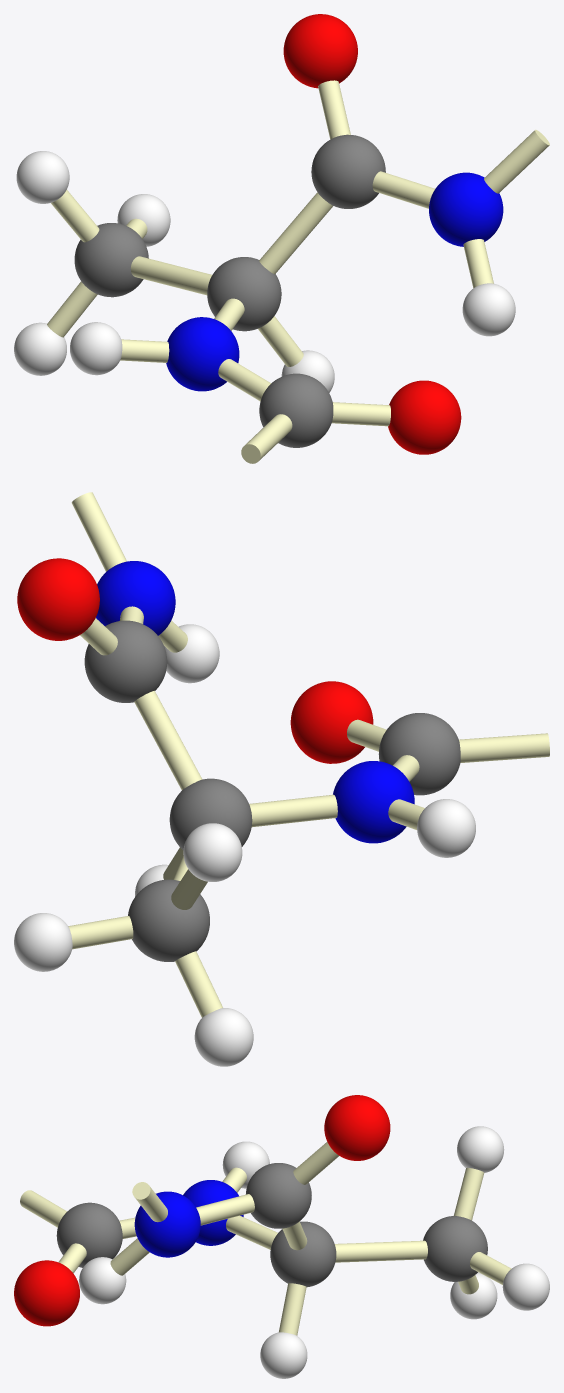
Rendered from conformation.gltf.
3 views of the same model, one above another, from view 1: azimuth 30°, elevation 25°; view 2: azimuth 150°, elevation 25°; view 3: azimuth 270°, elevation 25° (orthographic). The views are drawn at different scales.
Parts seen in each view (by area): view 1: ?????????2, ?????????6, ?????????13, ?????????5, ?????????3, ?????????9, ?????????1, ?????????4, ?????????12, ?????????14, ?????????7, ?????????10 (+16 smaller); view 2: ?????????6, ?????????2, ?????????5, ?????????3, ?????????9, ?????????1, ?????????13, ?????????4, ?????????12, ?????????7, ?????????11, ?????????10 (+11 smaller); view 3: ?????????2, ?????????6, ?????????5, ?????????9, ?????????13, ?????????4, ?????????1, ?????????11, ?????????22, ?????????8, ?????????12, ?????????3 (+15 smaller).
Boxes of the visible parts, x1,y1,x2,y2 form: ?????????2: [388, 380, 461, 454]; ?????????6: [283, 14, 357, 88]; ?????????13: [429, 172, 503, 246]; ?????????5: [311, 134, 385, 208]; ?????????3: [166, 317, 239, 391]; ?????????9: [74, 223, 148, 297]; ?????????1: [259, 373, 333, 447]; ?????????4: [207, 257, 281, 331]; ?????????12: [16, 151, 69, 203]; ?????????14: [462, 283, 515, 336]; ?????????7: [70, 322, 122, 375]; ?????????10: [14, 322, 66, 375]; ?????????6: [17, 558, 99, 640]; ?????????2: [290, 681, 373, 763]; ?????????5: [84, 620, 167, 702]; ?????????3: [333, 761, 414, 843]; ?????????9: [128, 879, 209, 961]; ?????????1: [378, 713, 460, 795]; ?????????13: [96, 561, 175, 635]; ?????????4: [169, 778, 252, 850]; ?????????12: [183, 823, 242, 881]; ?????????7: [417, 799, 475, 857]; ?????????11: [14, 913, 72, 971]; ?????????10: [194, 1008, 253, 1066]; ?????????2: [14, 1260, 79, 1326]; ?????????6: [324, 1095, 390, 1160]; ?????????5: [246, 1163, 311, 1228]; ?????????9: [423, 1216, 487, 1281]; ?????????13: [134, 1191, 200, 1257]; ?????????4: [270, 1221, 336, 1287]; ?????????1: [56, 1202, 122, 1267]; ?????????11: [502, 1263, 549, 1310]; ?????????22: [334, 1240, 427, 1262]; ?????????8: [260, 1332, 307, 1378]; ?????????12: [457, 1126, 504, 1172]; ?????????3: [183, 1180, 243, 1245].
Bounding box in the file's own units: 45.28 × 36.45 × 56.76.
